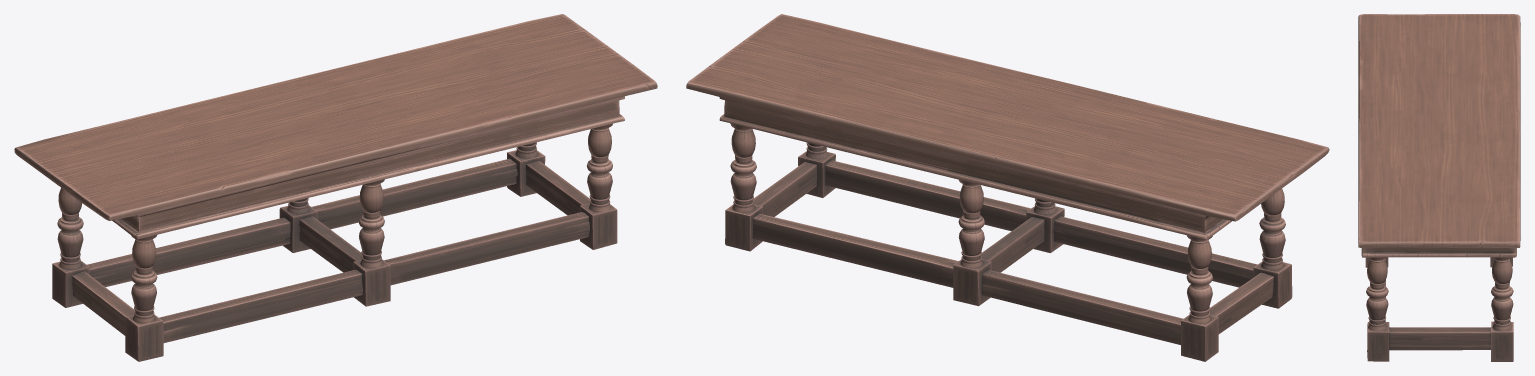
File: SM_Table_Long_01.fbx
3 views of the same model, side by side, from view 1: azimuth 30°, elevation 25°; view 2: azimuth 150°, elevation 25°; view 3: azimuth 270°, elevation 25° (orthographic). The views are drawn at different scales.
Visible parts, largest first — view 1: SM_Table_Long_01_LOD0; view 2: SM_Table_Long_01_LOD0; view 3: SM_Table_Long_01_LOD0.
Part boxes in pixels (x1=…): SM_Table_Long_01_LOD0: x1=14, y1=14, x2=657, y2=361; SM_Table_Long_01_LOD0: x1=686, y1=14, x2=1329, y2=361; SM_Table_Long_01_LOD0: x1=1358, y1=14, x2=1520, y2=361.
Size of what is drawn, in the model's own units: 5.6 by 1.54 by 1.68.
